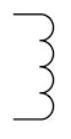inductor: (8, 7, 58, 124)
